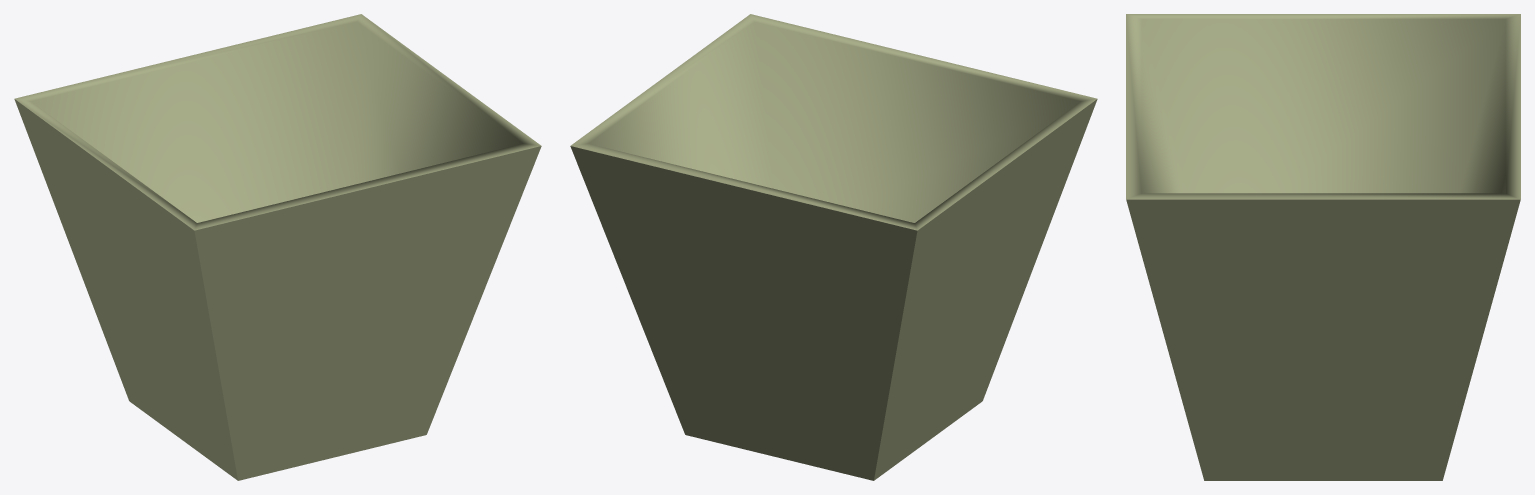
Rendered from bucket.fbx.
3 renders of one model, left to right at view 1: azimuth 30°, elevation 25°; view 2: azimuth 150°, elevation 25°; view 3: azimuth 270°, elevation 25°, orthographic. The views are drawn at different scales.
Parts seen in each view (by area): view 1: pCube83; view 2: pCube83; view 3: pCube83.
Boxes of the visible parts, x1=… form: pCube83: x1=14, y1=14, x2=541, y2=480; pCube83: x1=570, y1=14, x2=1097, y2=480; pCube83: x1=1126, y1=14, x2=1520, y2=480.
Bounding box in the file's own units: 3.58 × 2.91 × 3.22.
